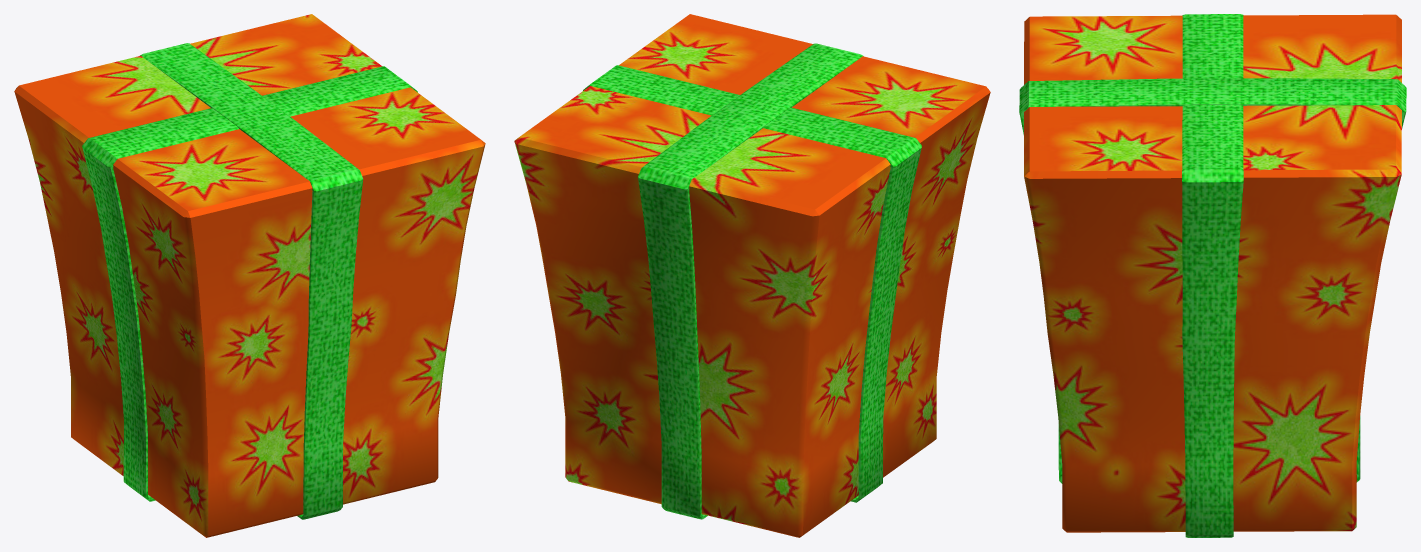
File: Gift_Box-1 (1).FBX
3 renders of one model, left to right at view 1: azimuth 30°, elevation 25°; view 2: azimuth 150°, elevation 25°; view 3: azimuth 270°, elevation 25°, orthographic. The views are drawn at different scales.
Visible parts, largest first — view 1: Object001, Object005, Object003, Object004; view 2: Object002, Object005, Object003; view 3: Object004, Object005, Object002, Object001.
Part boxes in pixels (bbox=[...]): Object001: bbox=[188, 140, 483, 537]; Object005: bbox=[19, 14, 480, 210]; Object003: bbox=[14, 86, 208, 537]; Object004: bbox=[411, 86, 485, 479]; Object002: bbox=[514, 137, 819, 537]; Object005: bbox=[519, 14, 985, 209]; Object003: bbox=[801, 86, 990, 536]; Object004: bbox=[1024, 169, 1395, 537]; Object005: bbox=[1028, 14, 1397, 171]; Object002: bbox=[1352, 15, 1406, 530]; Object001: bbox=[1019, 17, 1062, 483].
Bounding box in the file's own units: 162 × 179 × 162.
1 material, 1 textured.
